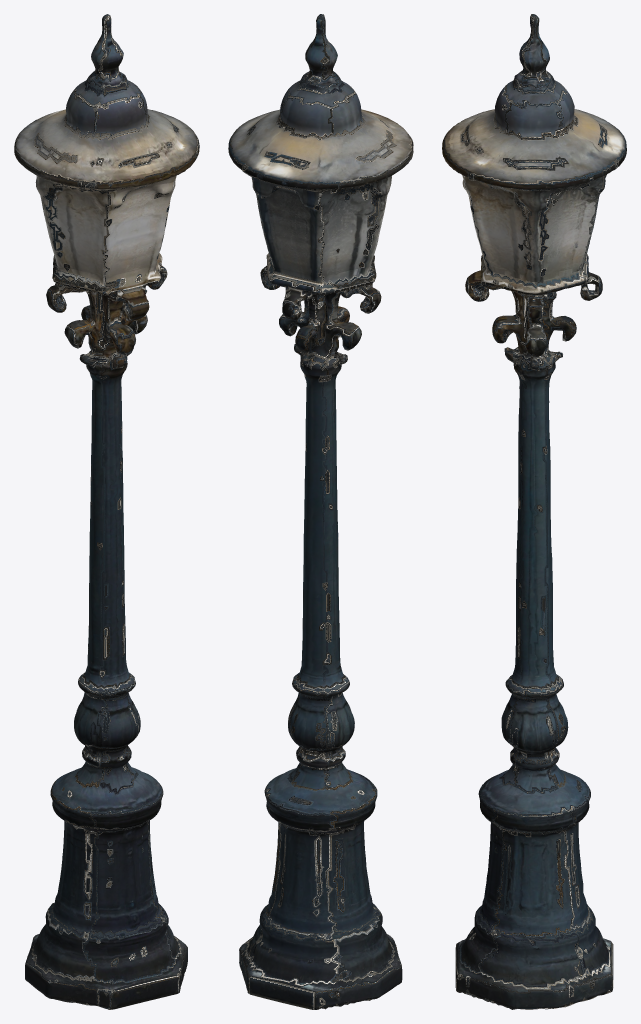
File: Lamp.fbx
The picture shows the model from 3 angles, left to right: view 1: azimuth 30°, elevation 25°; view 2: azimuth 150°, elevation 25°; view 3: azimuth 270°, elevation 25°; orthographic projection.
Parts seen in each view (by area): view 1: Mesh_0, Mesh_0.001; view 2: Mesh_0, Mesh_0.001; view 3: Mesh_0, Mesh_0.001.
Part boxes in pixels (left/top/right/bottom): Mesh_0: left=14, top=14, right=199, bottom=1009; Mesh_0.001: left=35, top=176, right=175, bottom=277; Mesh_0: left=228, top=14, right=413, bottom=1009; Mesh_0.001: left=252, top=176, right=391, bottom=277; Mesh_0: left=442, top=14, right=626, bottom=1009; Mesh_0.001: left=462, top=179, right=605, bottom=281.
Bounding box in the file's own units: 35.23 × 201 × 34.94.
